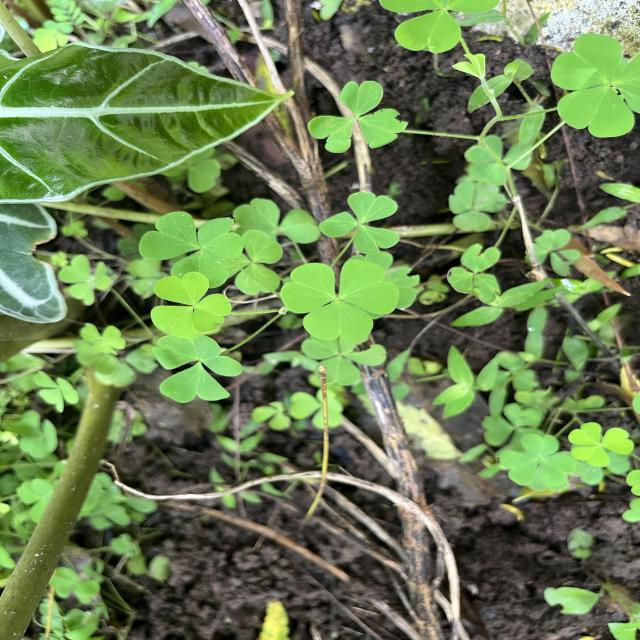Oxalis corniculata: (280, 259, 400, 343), (548, 31, 640, 140), (138, 210, 245, 290), (306, 78, 410, 154), (151, 336, 243, 404), (150, 272, 233, 340), (318, 191, 401, 255), (498, 432, 577, 490), (446, 242, 501, 304), (567, 421, 635, 468), (58, 254, 112, 307), (33, 368, 80, 414)
